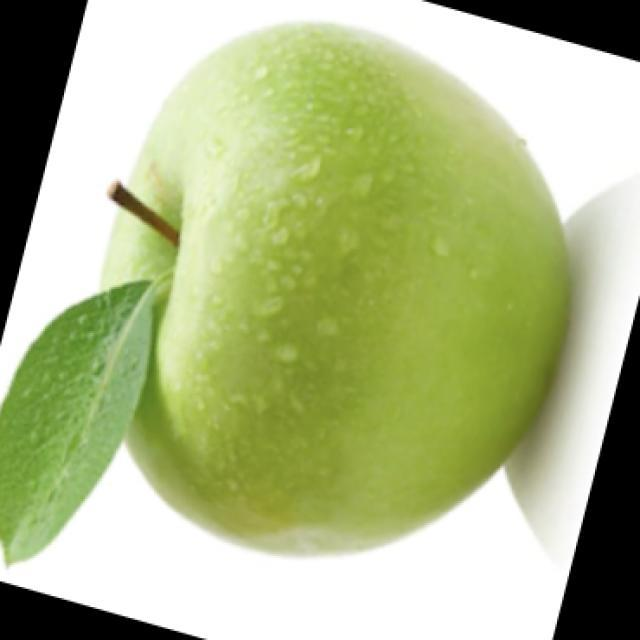Fresh Apple: (101, 30, 542, 565)
